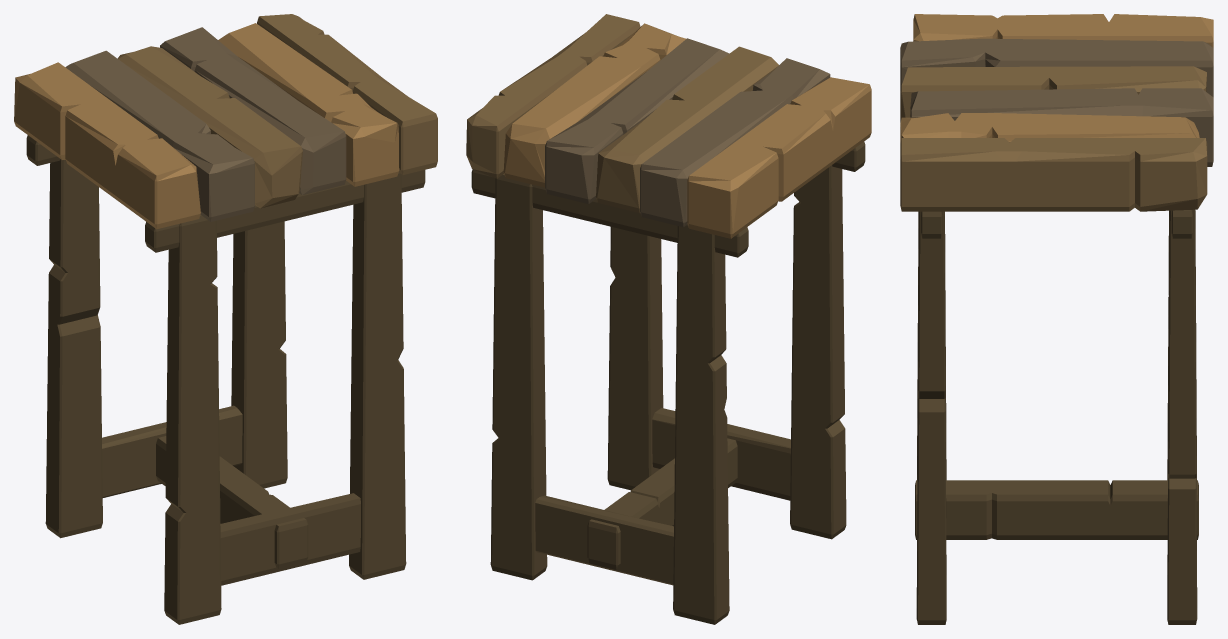
File: Broken_Chair.glb
The picture shows the model from 3 angles, left to right: view 1: azimuth 30°, elevation 25°; view 2: azimuth 150°, elevation 25°; view 3: azimuth 270°, elevation 25°; orthographic projection. The views are drawn at different scales.
Visible parts, largest first — view 1: world; view 2: world; view 3: world.
Part boxes in pixels (box(x1,y1,x2,y2)): world: box(14, 14, 437, 624); world: box(466, 14, 871, 624); world: box(900, 14, 1213, 624).
Size of the model in its own units: 108 by 170 by 100.
